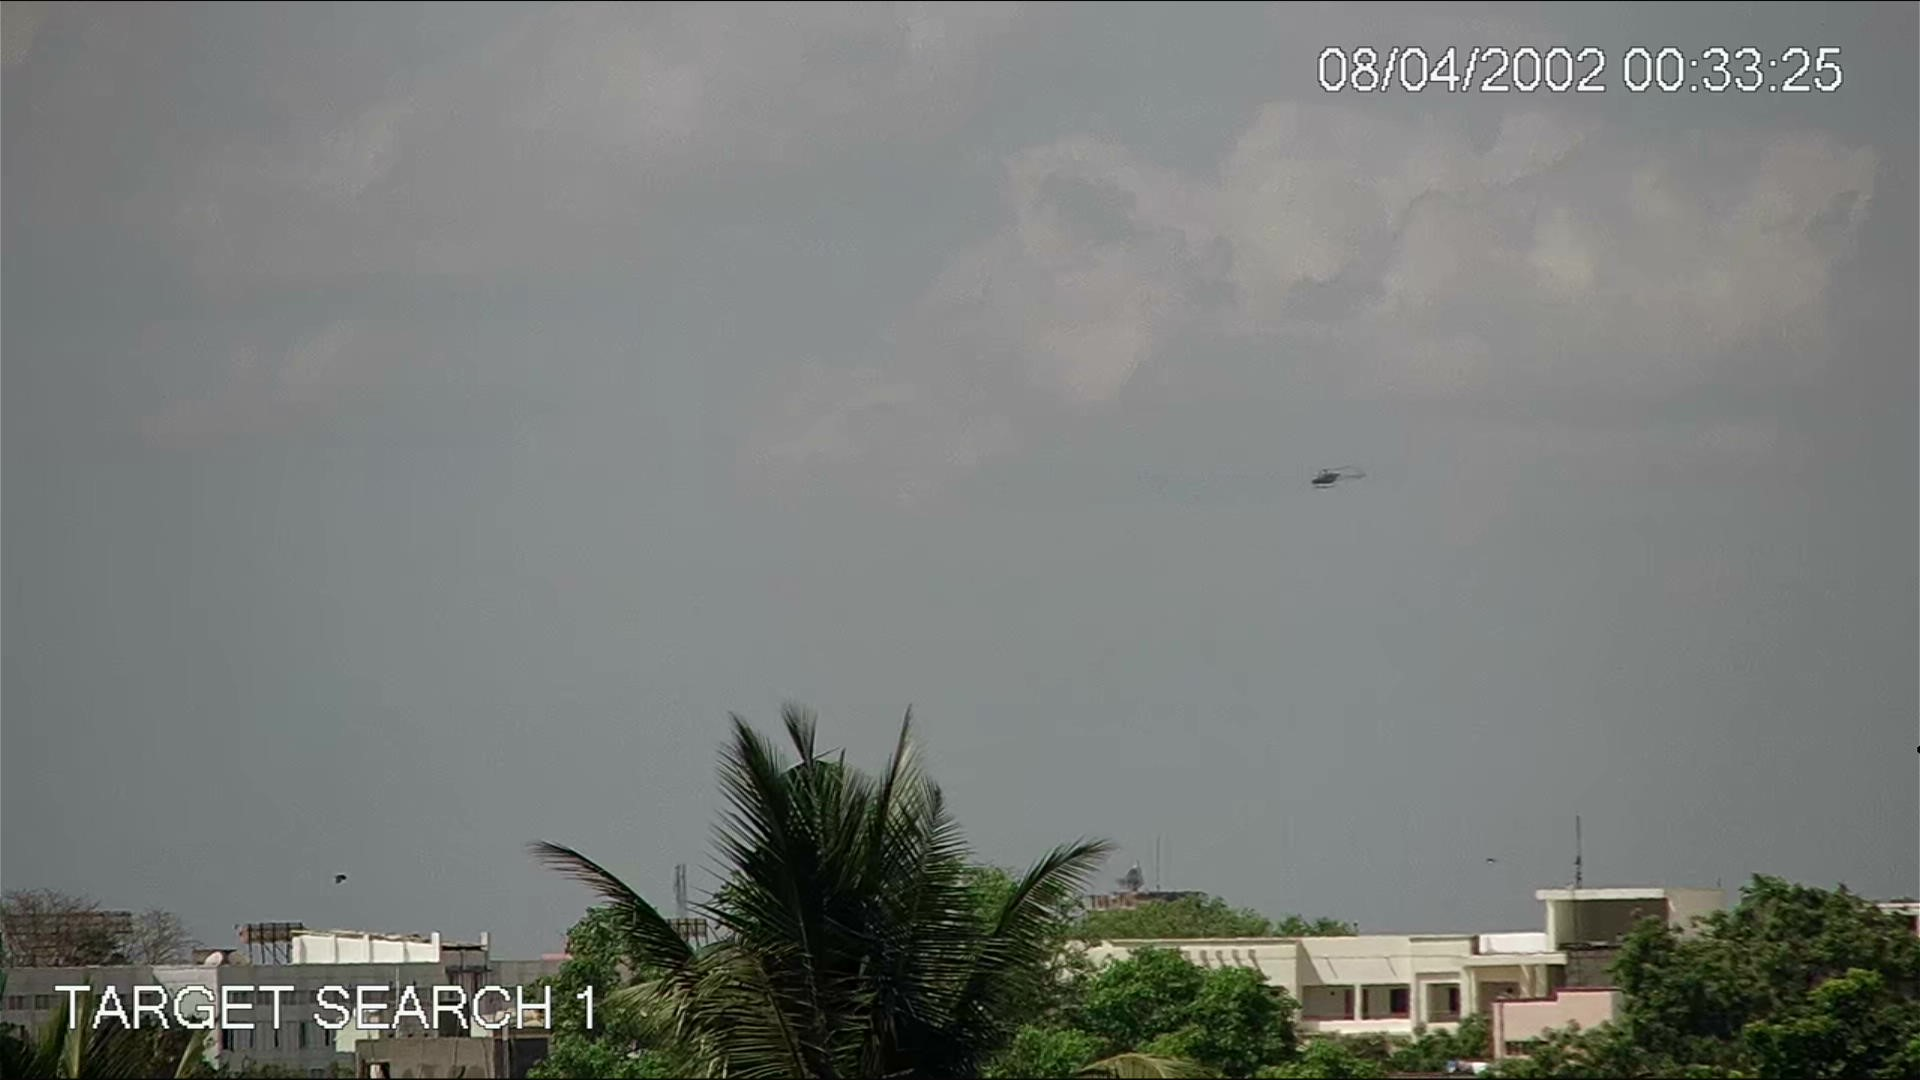SU_30: (1305, 465, 1370, 495)
